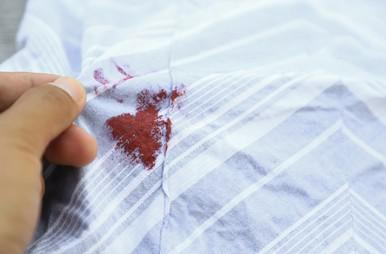gun: (95, 58, 184, 162)
